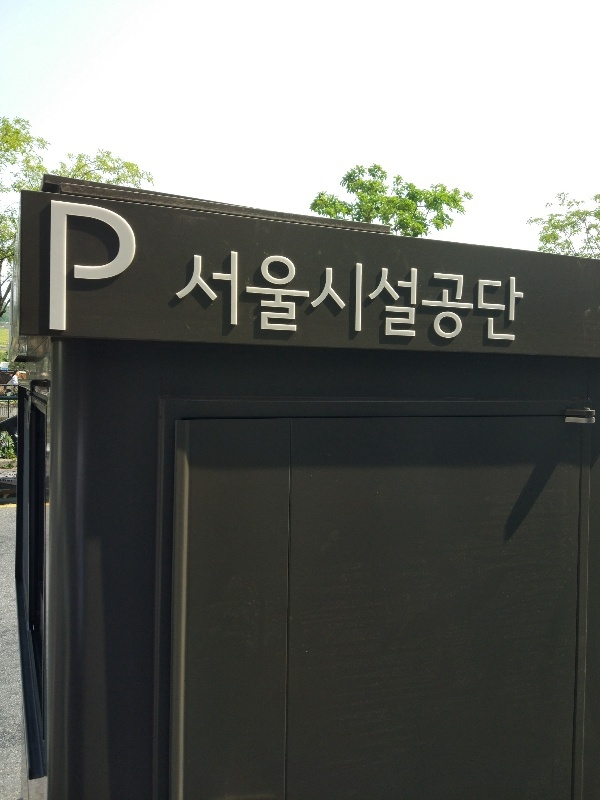text: (49, 194, 64, 344), (65, 194, 80, 344), (81, 194, 96, 344), (97, 194, 112, 344), (113, 194, 128, 344), (129, 194, 140, 344), (193, 242, 208, 344), (209, 242, 224, 344), (225, 242, 240, 344), (241, 242, 256, 344), (257, 242, 272, 344), (273, 242, 288, 344), (289, 242, 304, 344), (305, 242, 320, 344), (321, 242, 336, 344), (337, 242, 352, 344), (353, 242, 368, 344), (369, 242, 384, 344), (385, 242, 400, 344), (401, 242, 416, 344), (417, 242, 432, 344), (433, 242, 448, 344), (449, 242, 464, 344), (465, 242, 480, 344), (481, 242, 496, 344), (497, 242, 512, 344), (513, 242, 526, 344), (47, 194, 48, 344), (191, 242, 192, 344), (2, 370, 16, 375), (3, 368, 16, 371)
